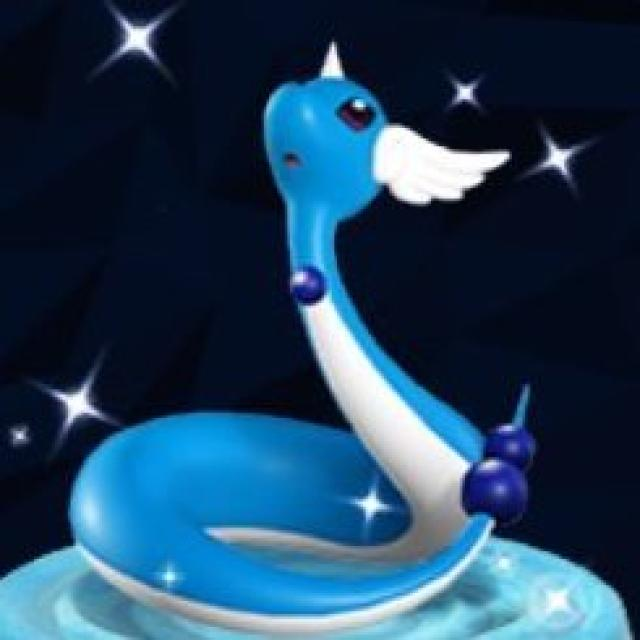Dragonair: (90, 66, 550, 601)
